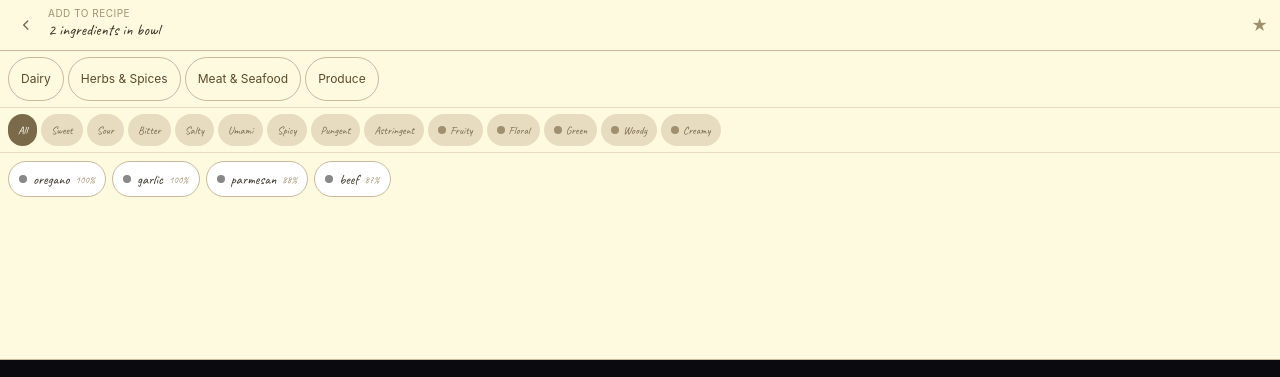
Scenario: IngredientSuggestionsPopout — RL-CATEGORY-FILTER (§14 food-category pills) › tap active pill again → deactivates (back to all)
The width and height of the screenshot is (1280, 377).
Click the button with test id "category-pill-Dairy" at (36, 79), box [8,57,64,101]
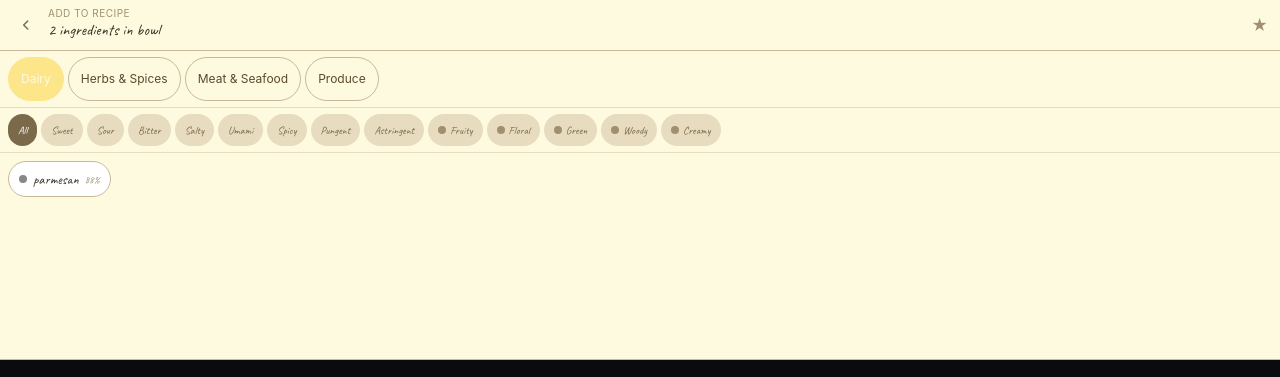
Expected: the button with test id "category-pill-Dairy" is pressed
Click the button with test id "category-pill-Dairy" at (36, 79), box [8,57,64,101]
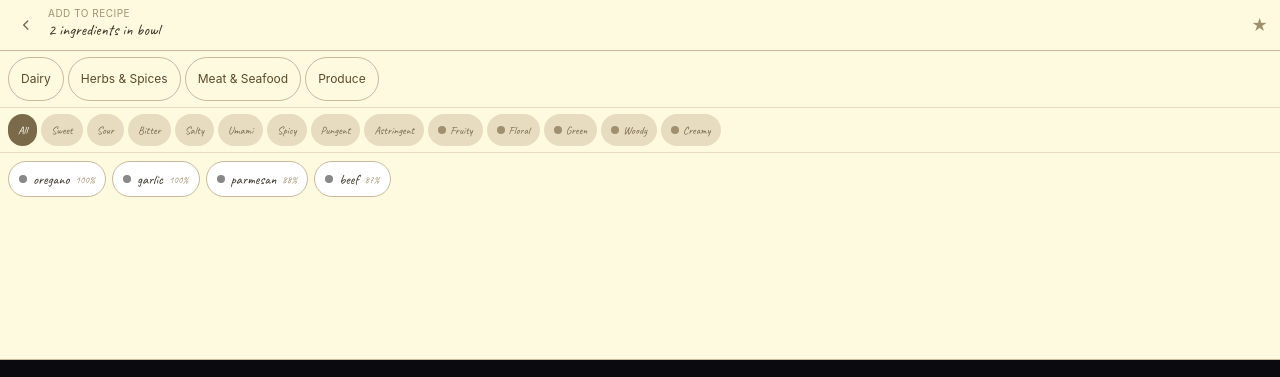
Expected: the text "beef" is shown, [339,168,358,190]
